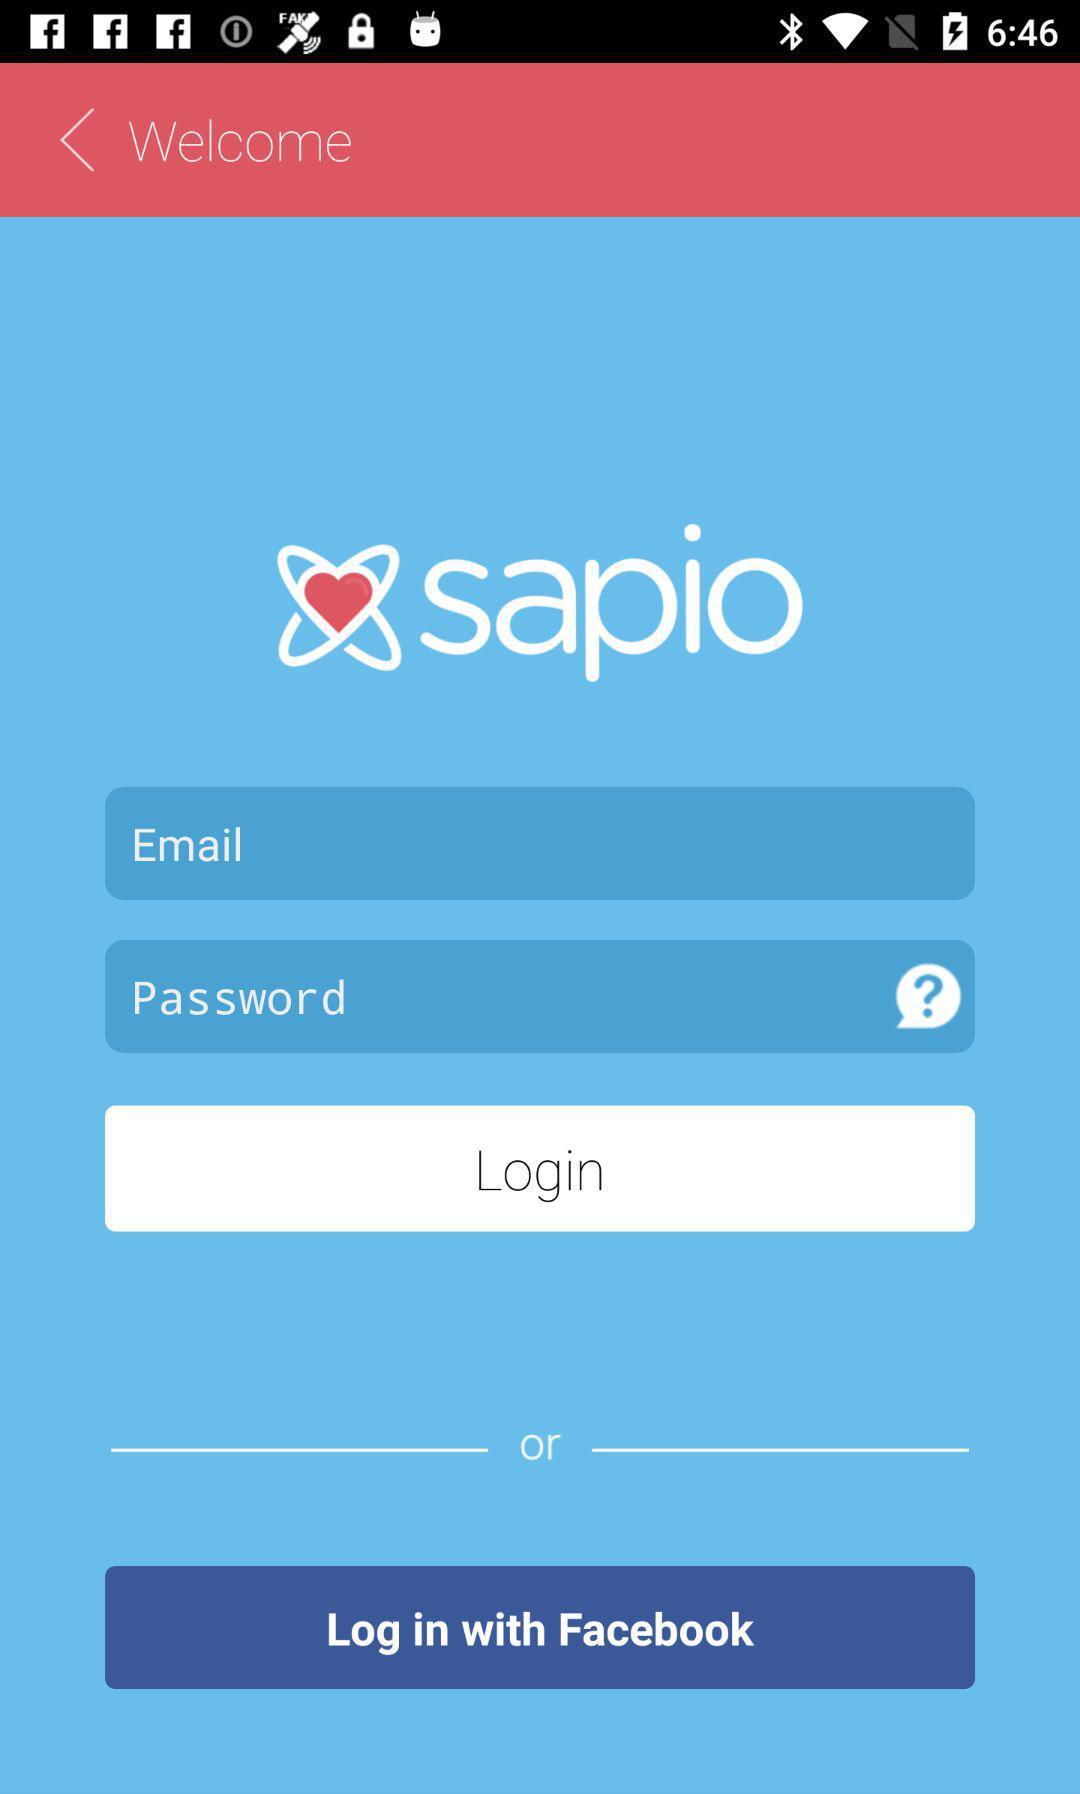EditText: (105, 939, 976, 1055), (105, 786, 976, 901)
Icon: (894, 962, 962, 1032), (59, 108, 97, 176)
Image: (275, 545, 406, 673)
Text: (419, 524, 805, 686), (128, 119, 354, 165), (135, 979, 345, 1017), (135, 827, 242, 862), (519, 1433, 562, 1462)
TextButton: (104, 1105, 976, 1233), (105, 1565, 976, 1690)
Toolbar: (1, 64, 1080, 218)
UpperTaskBar: (1, 1, 1080, 64)
